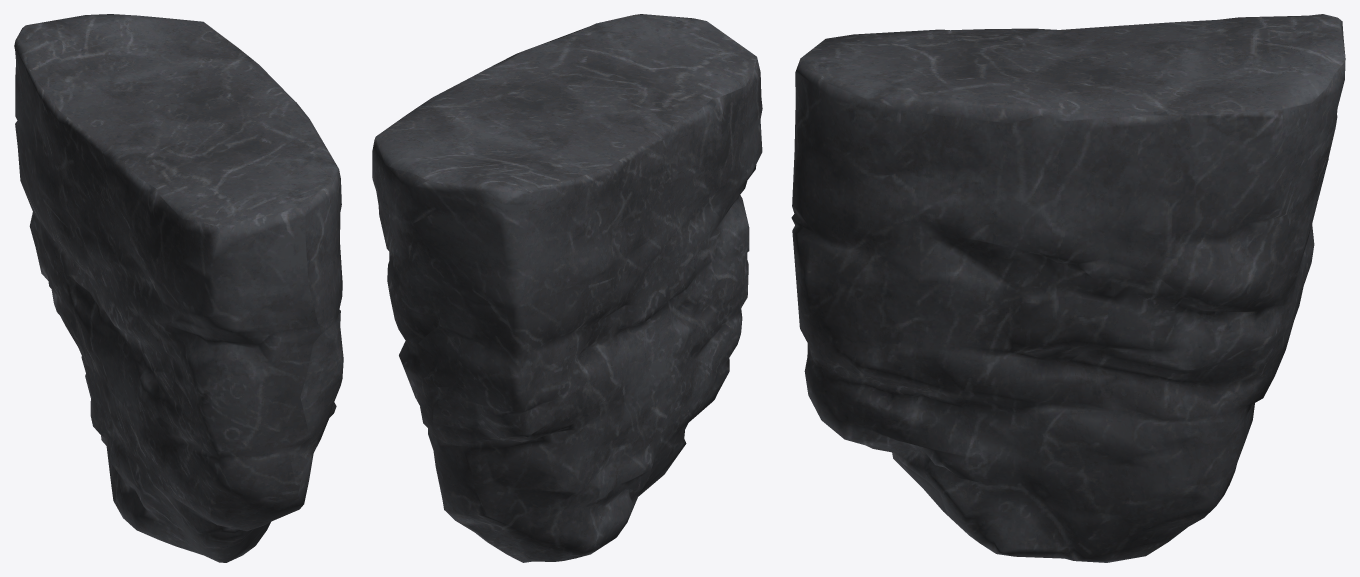
File: Cliff_Ledge_02.fbx
The picture shows the model from 3 angles, left to right: view 1: azimuth 30°, elevation 25°; view 2: azimuth 150°, elevation 25°; view 3: azimuth 270°, elevation 25°; orthographic projection. The views are drawn at different scales.
Visible parts, largest first — view 1: SM_Cliff_Ledge_02.mo; view 2: SM_Cliff_Ledge_02.mo; view 3: SM_Cliff_Ledge_02.mo.
Boxes of the visible parts, <box> form: SM_Cliff_Ledge_02.mo: <box>14,14,343,562</box>; SM_Cliff_Ledge_02.mo: <box>372,14,762,562</box>; SM_Cliff_Ledge_02.mo: <box>791,14,1345,562</box>.
Size of the model in its own units: 168 by 348 by 346.
1 material, 1 textured.
